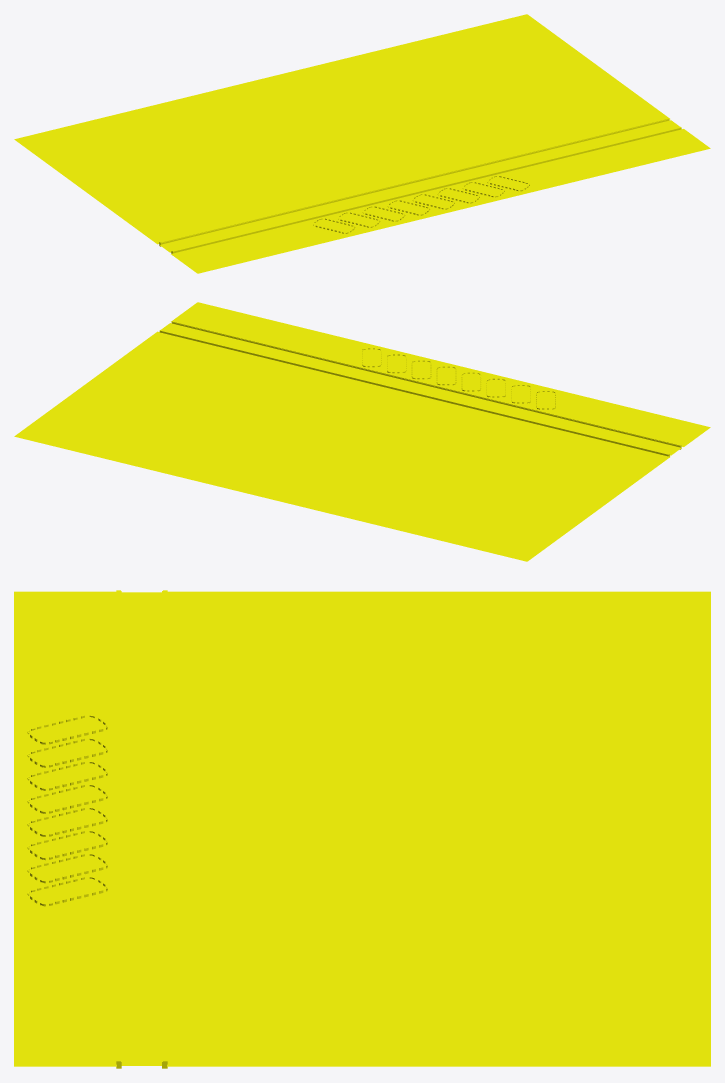
The picture shows the model from 3 angles, top to bottom: view 1: azimuth 30°, elevation 25°; view 2: azimuth 150°, elevation 25°; view 3: azimuth 270°, elevation 25°; orthographic projection. The views are drawn at different scales.
Visible parts, largest first — view 1: pasted__Plane.011; view 2: pasted__Plane.011; view 3: pasted__Plane.011, extracted_06, extracted_03, extracted_04, extracted_08, extracted_02, extracted_05, extracted_07, extracted_01.
Boxes of the visible parts, x1=… form: pasted__Plane.011: x1=14, y1=14, x2=710, y2=273; pasted__Plane.011: x1=14, y1=302, x2=710, y2=561; pasted__Plane.011: x1=14, y1=590, x2=710, y2=1068; extracted_06: x1=27, y1=761, x2=108, y2=790; extracted_03: x1=27, y1=830, x2=108, y2=860; extracted_04: x1=27, y1=807, x2=107, y2=836; extracted_08: x1=27, y1=715, x2=108, y2=744; extracted_02: x1=27, y1=853, x2=108, y2=883; extracted_05: x1=27, y1=784, x2=107, y2=813; extracted_07: x1=27, y1=738, x2=108, y2=767; extracted_01: x1=27, y1=876, x2=108, y2=906.
Size of the model in its own units: 72.32 by 0.5265 by 44.83.
Materials: 1 (1 with a texture image).
